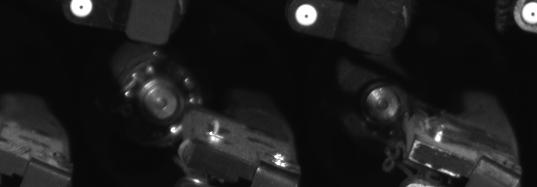fiber: (287, 3, 326, 33), (64, 1, 105, 21), (518, 2, 537, 29)
